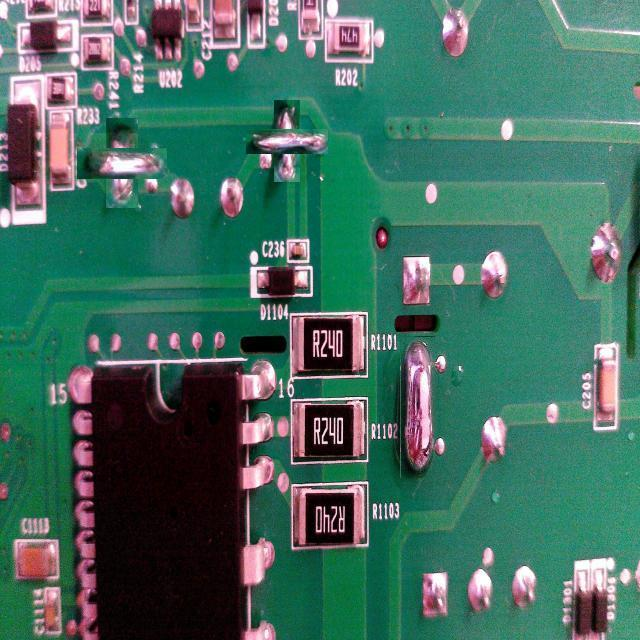Short_circuit: (400, 336, 435, 478), (92, 133, 153, 193), (260, 114, 314, 168)
